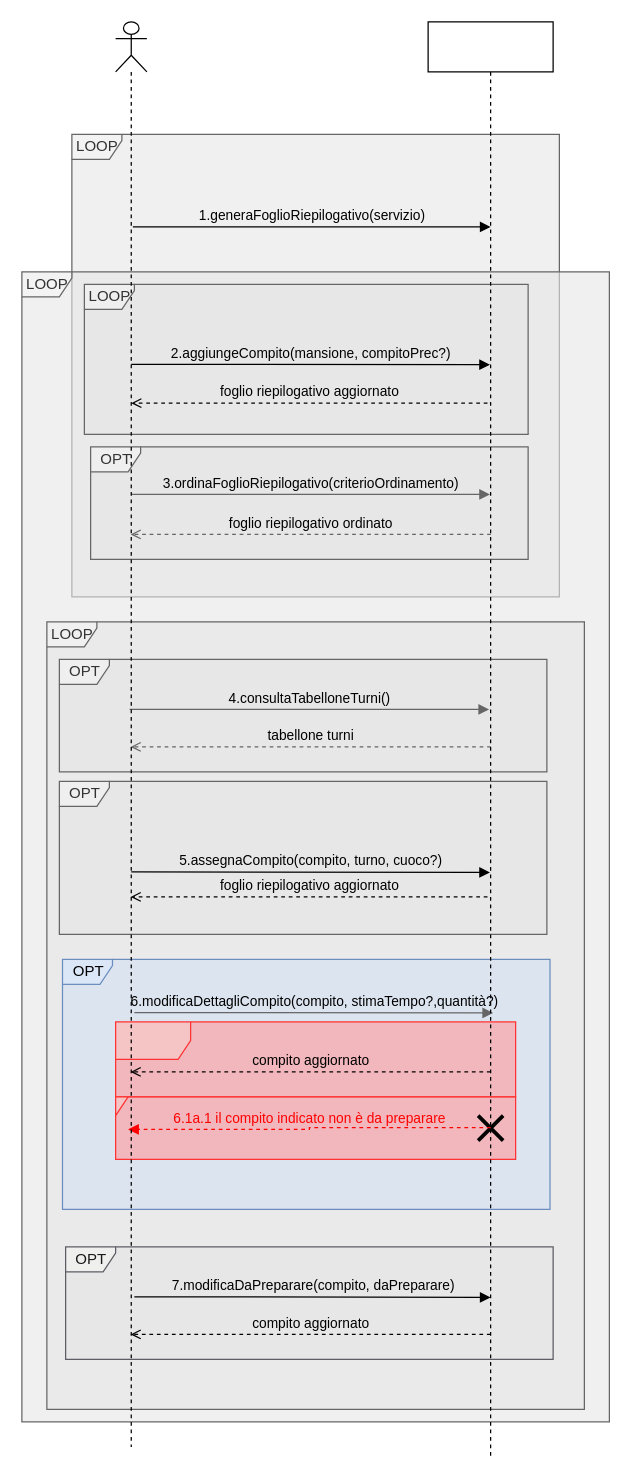
The diagram is 631 pixels wide and 1481 high, and some of its shapes have lost their labels. Each missing label, with the box of its shape:
ALT: (114, 1021, 516, 1097)
Chef: (114, 21, 147, 1447)
Sistema: (427, 21, 553, 1459)
